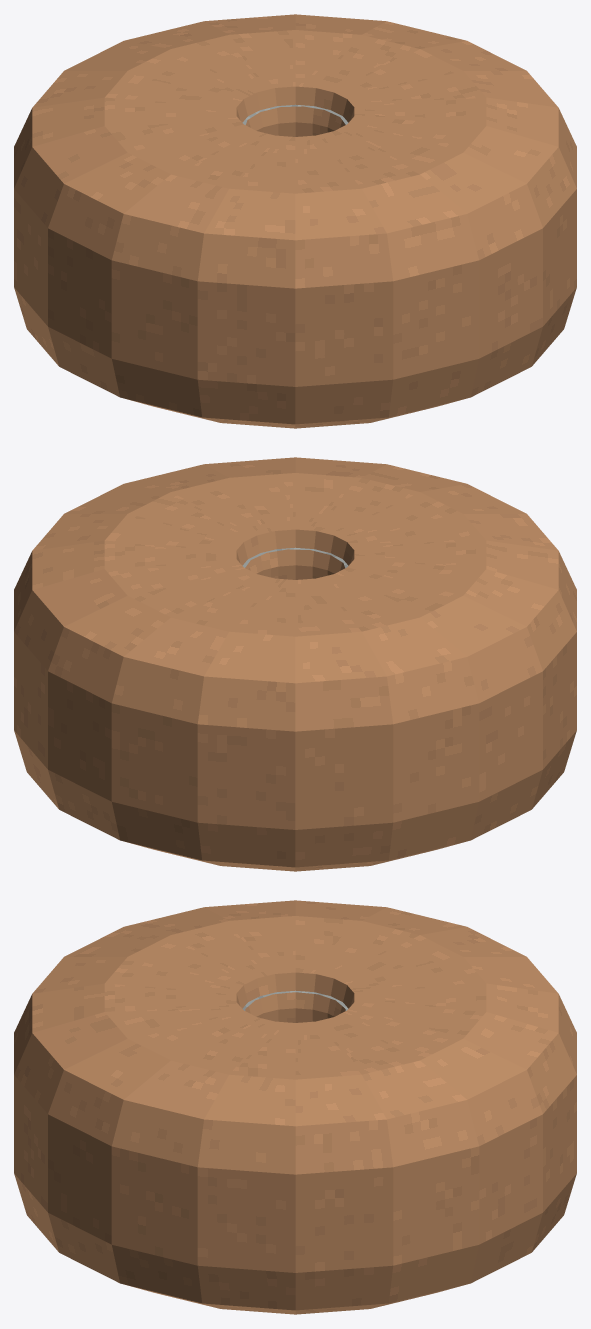
Rendered from wheel_skate.glb.
The picture shows the model from 3 angles, top to bottom: view 1: azimuth 30°, elevation 25°; view 2: azimuth 150°, elevation 25°; view 3: azimuth 270°, elevation 25°; orthographic projection.
Visible parts, largest first — view 1: block_solid polyurethane skate wheel; view 2: block_solid polyurethane skate wheel; view 3: block_solid polyurethane skate wheel.
Part boxes in pixels (bbox=[...]): block_solid polyurethane skate wheel: bbox=[14, 14, 576, 428]; block_solid polyurethane skate wheel: bbox=[14, 457, 576, 871]; block_solid polyurethane skate wheel: bbox=[14, 900, 576, 1314].
Bounding box in the file's own units: 0.077 × 0.0333 × 0.0758.
Materials: 1 (1 with a texture image).
